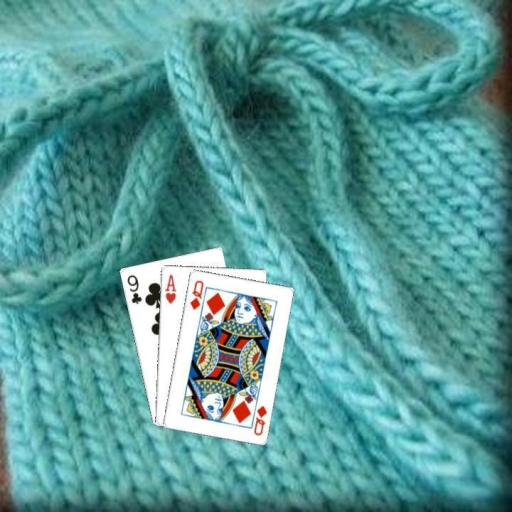9C: (124, 271, 143, 306)
AH: (161, 272, 178, 305)
QD: (186, 277, 205, 311), (250, 402, 268, 437)
